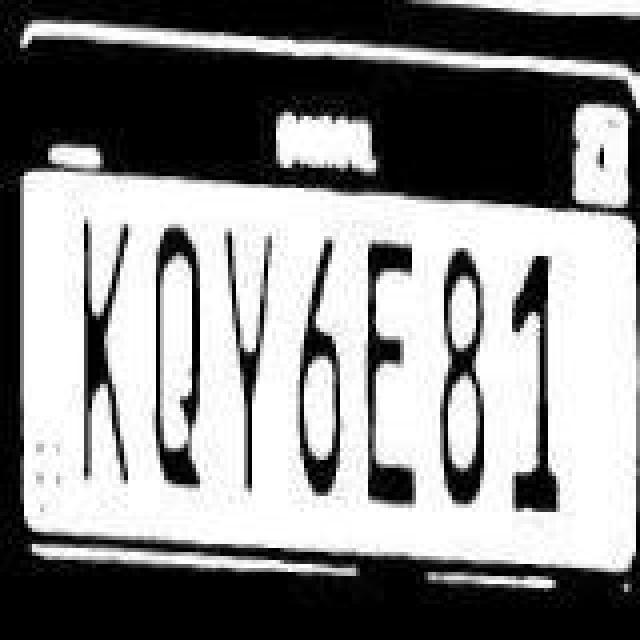1: (500, 246, 572, 550)
6: (290, 222, 350, 522)
8: (432, 238, 496, 534)
E: (358, 222, 426, 530)
K: (74, 214, 134, 502)
Q: (142, 206, 210, 510)
Y: (220, 216, 276, 508)
